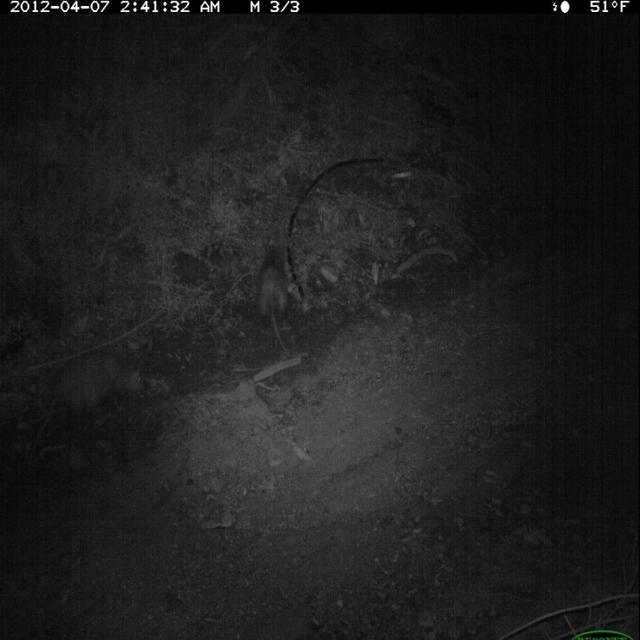opossum: (252, 238, 306, 371)
